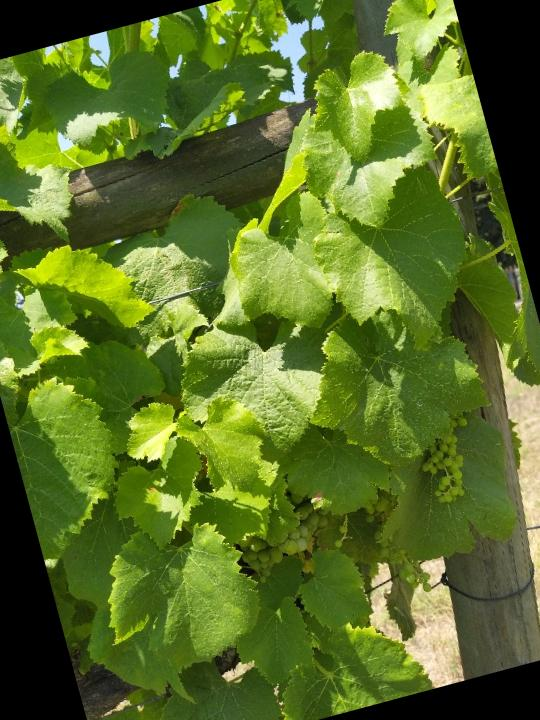grape: (411, 411, 494, 513)
